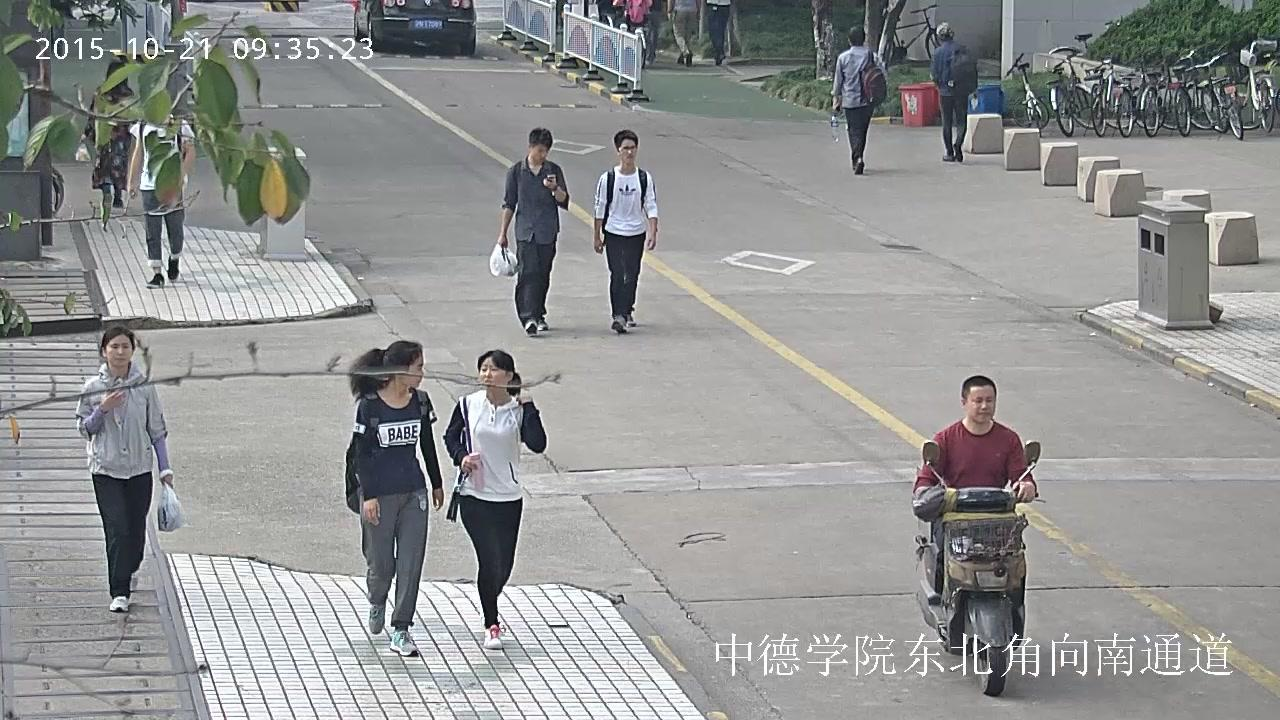face: (967, 386, 994, 422), (479, 355, 503, 391), (106, 335, 131, 366), (403, 357, 424, 388), (620, 139, 636, 164), (533, 143, 548, 162)
